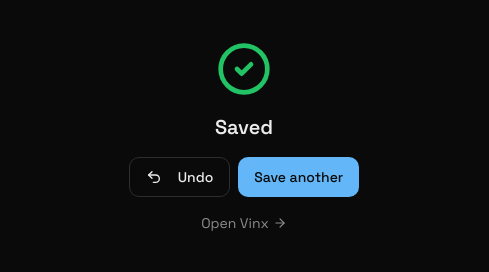
Scenario: /quick › Undo really removes the memory and its image
What coordinates should you click on to do the following:
click the button "Undo"
I would click on:
 (180, 177)
Its box is [129,157,230,197].
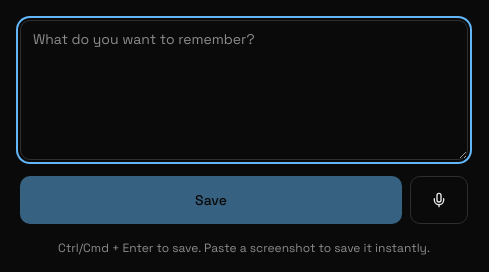
Check: the text box labelled "What do you want to remember?" is shown, box [20,20,468,160]
